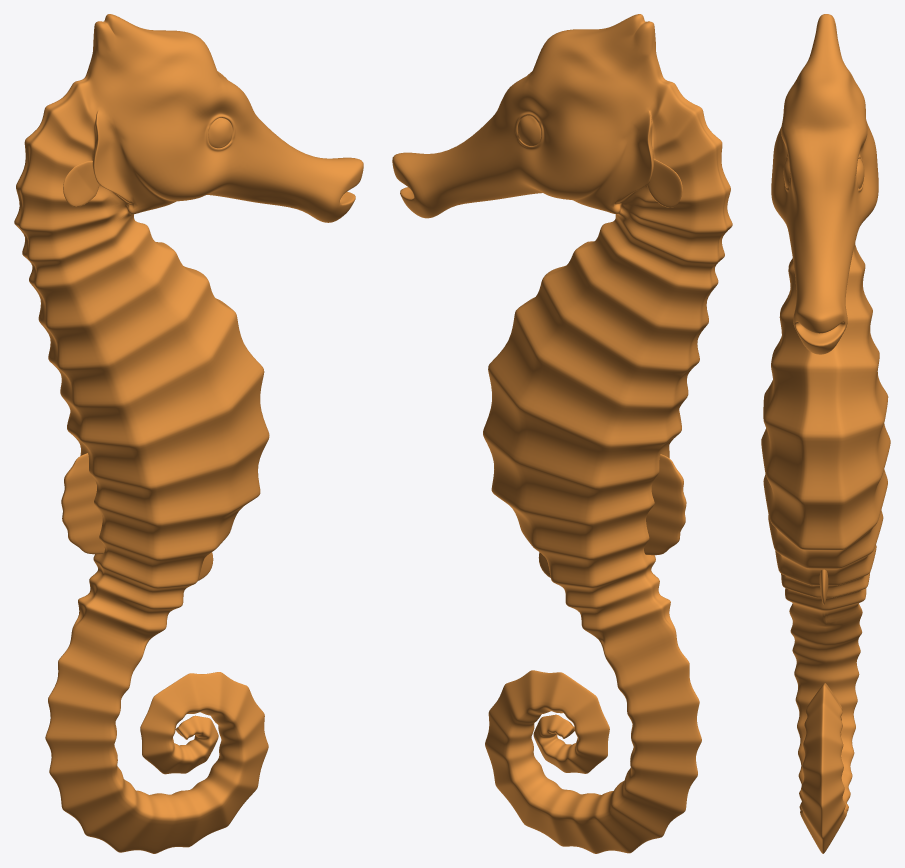
The model's file is SeaHorse2.glb.
3 renders of one model, left to right at view 1: azimuth 30°, elevation 25°; view 2: azimuth 150°, elevation 25°; view 3: azimuth 270°, elevation 25°, orthographic. The views are drawn at different scales.
Parts seen in each view (by area): view 1: 10044_SeaHorse_v1_iterations-2; view 2: 10044_SeaHorse_v1_iterations-2; view 3: 10044_SeaHorse_v1_iterations-2.
Boxes of the visible parts, box(x1,y1,x2,y2) form: 10044_SeaHorse_v1_iterations-2: box(14, 14, 363, 853); 10044_SeaHorse_v1_iterations-2: box(392, 14, 732, 853); 10044_SeaHorse_v1_iterations-2: box(761, 14, 890, 853).
Bounding box in the file's own units: 1.76 × 4.21 × 0.6193.
